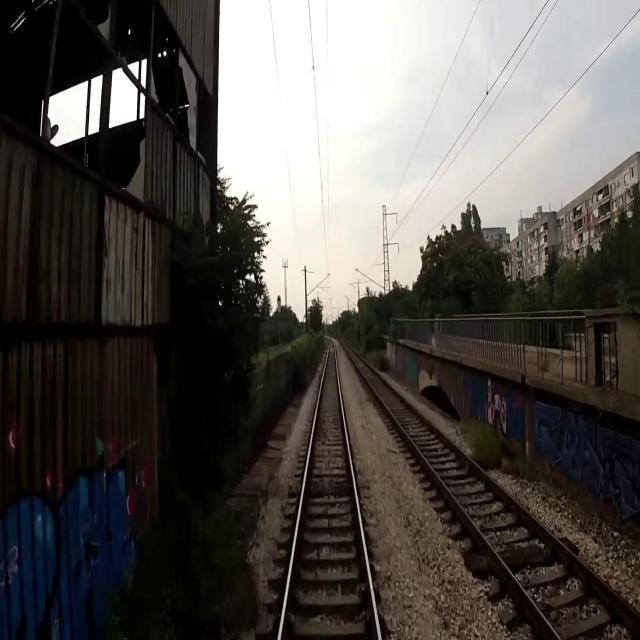rail-track: (287, 342, 371, 601)
